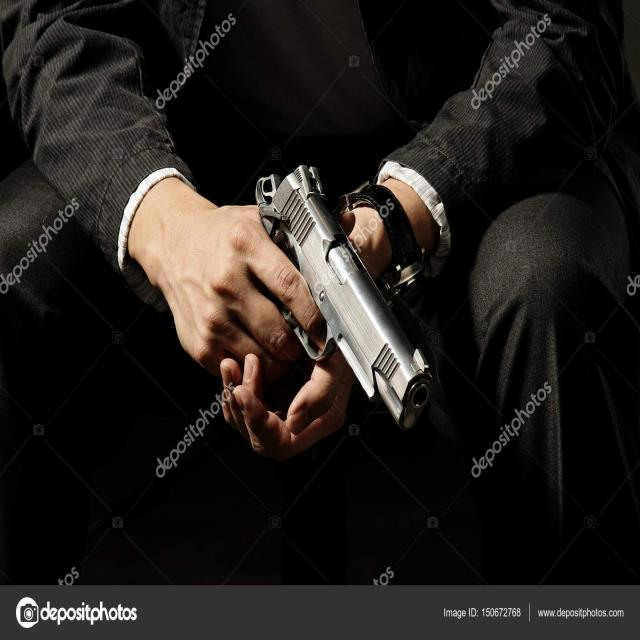HandGun: (256, 165, 433, 433)
